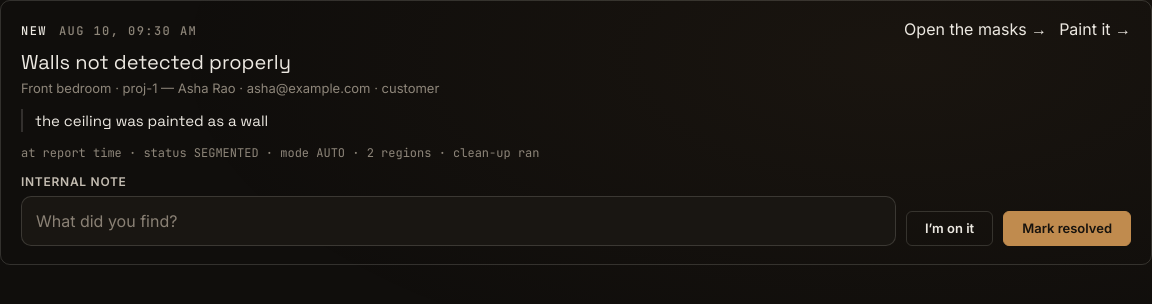
MaskReports › resolves a report and reflects the answer the server gave back
Click the button "Mark resolved".
click(1067, 229)  # box [1003, 211, 1131, 246]
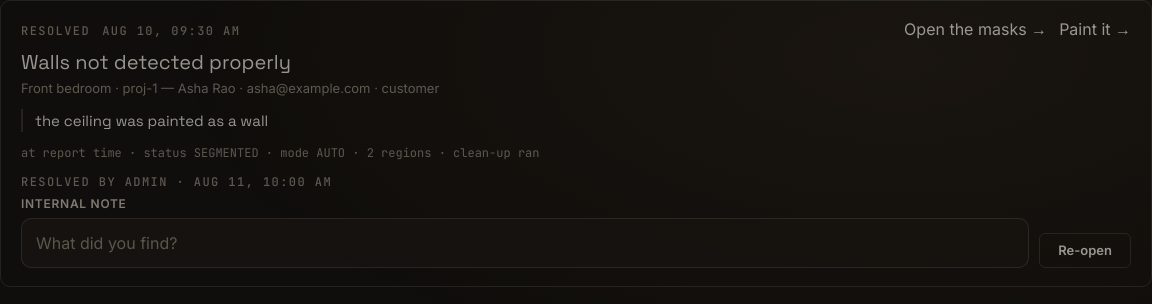
Expected: the text "Resolved by Admin · Aug 11, 10:00 AM" is shown, [21, 174, 332, 190]
Expected: the button "Re-open" is shown, [1039, 233, 1131, 268]
